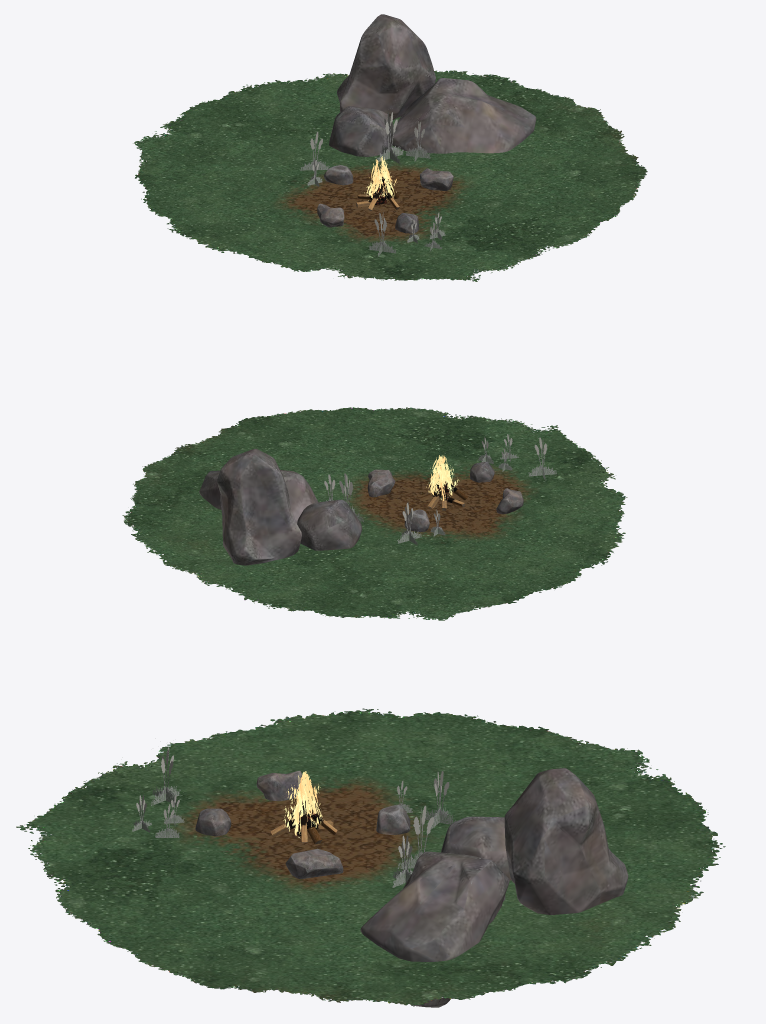
The model's file is fire.glb.
3 renders of one model, top to bottom at view 1: azimuth 30°, elevation 25°; view 2: azimuth 150°, elevation 25°; view 3: azimuth 270°, elevation 25°, orthographic. The views are drawn at different scales.
Parts seen in each view (by area): view 1: Ground_8, Sitting Stone1.004_27, Sitting Stone1.006_33, Sitting Stone1.005_28, Flames_7, Sitting Stone1.003_13; view 2: Ground_8, Sitting Stone1.006_33, Sitting Stone1.005_28, Sitting Stone1.004_27, Flames_7, Sitting Stone1.003_13; view 3: Ground_8, Sitting Stone1.006_33, Sitting Stone1.004_27, Sitting Stone1.005_28, Sitting Stone1.003_13, Flames_7, Sitting Stone1.001_11, Sitting Stone1_10, Sitting Stone1.002_12, Plane.013_30.
Boxes of the visible parts, bbox=[...] form: Ground_8: bbox=[133, 70, 647, 281]; Sitting Stone1.004_27: bbox=[391, 78, 536, 153]; Sitting Stone1.006_33: bbox=[337, 14, 435, 120]; Sitting Stone1.005_28: bbox=[329, 106, 391, 156]; Flames_7: bbox=[364, 156, 397, 200]; Sitting Stone1.003_13: bbox=[420, 168, 453, 190]; Ground_8: bbox=[122, 407, 627, 620]; Sitting Stone1.006_33: bbox=[217, 448, 301, 565]; Sitting Stone1.005_28: bbox=[297, 499, 361, 550]; Sitting Stone1.004_27: bbox=[199, 470, 318, 523]; Flames_7: bbox=[426, 455, 459, 500]; Sitting Stone1.003_13: bbox=[367, 469, 395, 497]; Ground_8: bbox=[16, 708, 725, 1006]; Sitting Stone1.006_33: bbox=[504, 768, 628, 914]; Sitting Stone1.004_27: bbox=[360, 851, 509, 1007]; Sitting Stone1.005_28: bbox=[441, 816, 511, 880]; Sitting Stone1.003_13: bbox=[285, 848, 343, 878]; Flames_7: bbox=[283, 771, 322, 837]; Sitting Stone1.001_11: bbox=[256, 770, 305, 800]; Sitting Stone1_10: bbox=[376, 805, 410, 834]; Sitting Stone1.002_12: bbox=[195, 808, 231, 836]; Plane.013_30: bbox=[397, 805, 433, 868].
Size of the model in its own units: 56.97 by 16.98 by 56.97.
Materials: 5 (5 with a texture image).
